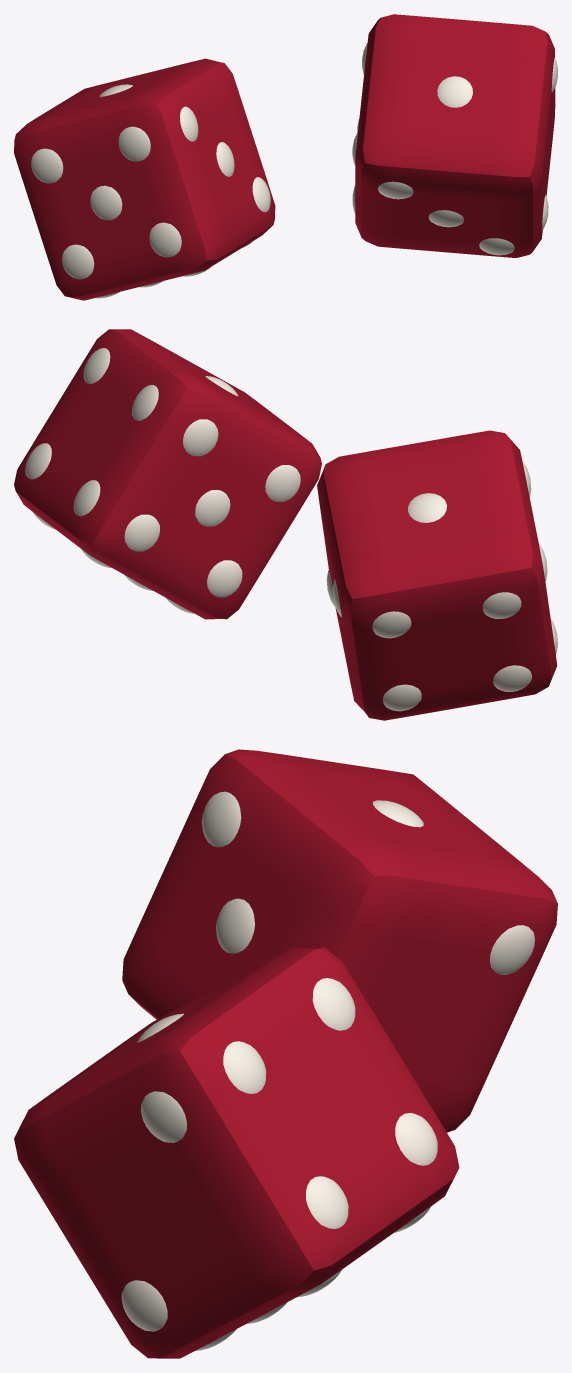
Rendered from dice_red.glb.
3 views of the same model, one above another, from view 1: azimuth 30°, elevation 25°; view 2: azimuth 150°, elevation 25°; view 3: azimuth 270°, elevation 25° (orthographic). The views are drawn at different scales.
Parts seen in each view (by area): view 1: die_2_cube, die_1_cube, die_1_pip (×8), die_2_pip (×4); view 2: die_1_cube, die_2_cube, die_2_pip (×9), die_1_pip (×5); view 3: die_2_cube, die_1_cube, die_2_pip (×6), die_1_pip (×4).
Boxes of the visible parts, x1,y1,x2,y2 form: die_2_cube: [355, 14, 555, 257]; die_1_cube: [14, 58, 275, 300]; die_1_pip (×8): [31, 106, 270, 279]; die_2_pip (×4): [378, 76, 514, 255]; die_1_cube: [317, 430, 557, 720]; die_2_cube: [14, 329, 321, 619]; die_2_pip (×9): [25, 348, 300, 597]; die_1_pip (×5): [372, 493, 531, 711]; die_2_cube: [14, 947, 459, 1358]; die_1_cube: [122, 749, 557, 1132]; die_2_pip (×6): [121, 978, 437, 1331]; die_1_pip (×4): [201, 791, 534, 974].
Size of the model in its own units: 0.0526 by 0.0225 by 0.0316.
